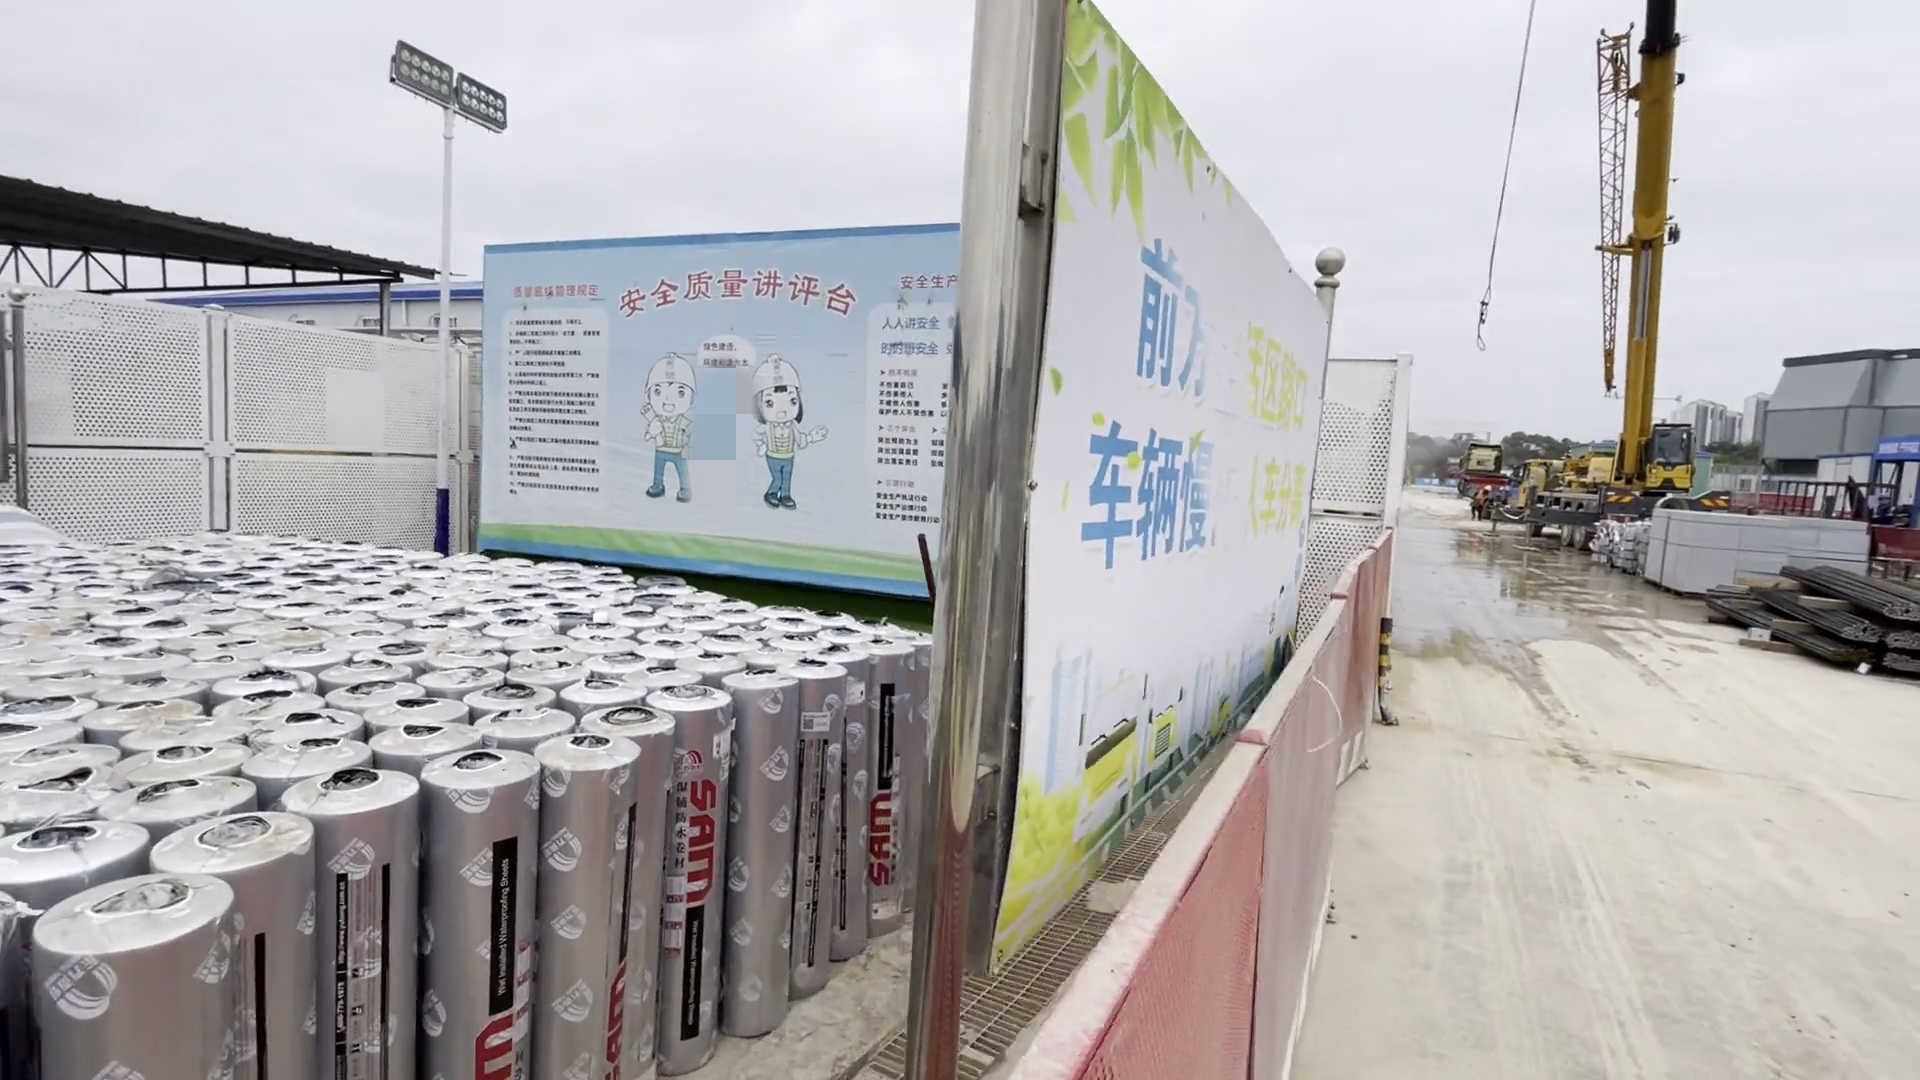brick: (1648, 516, 1875, 620)
